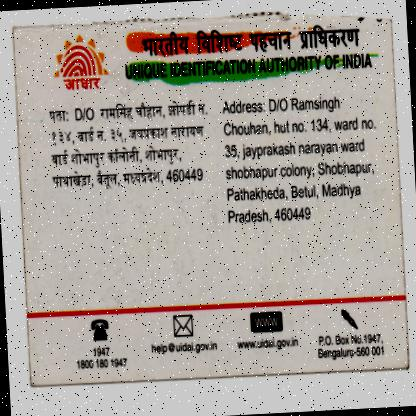aadhaar_card: (11, 6, 410, 392)
